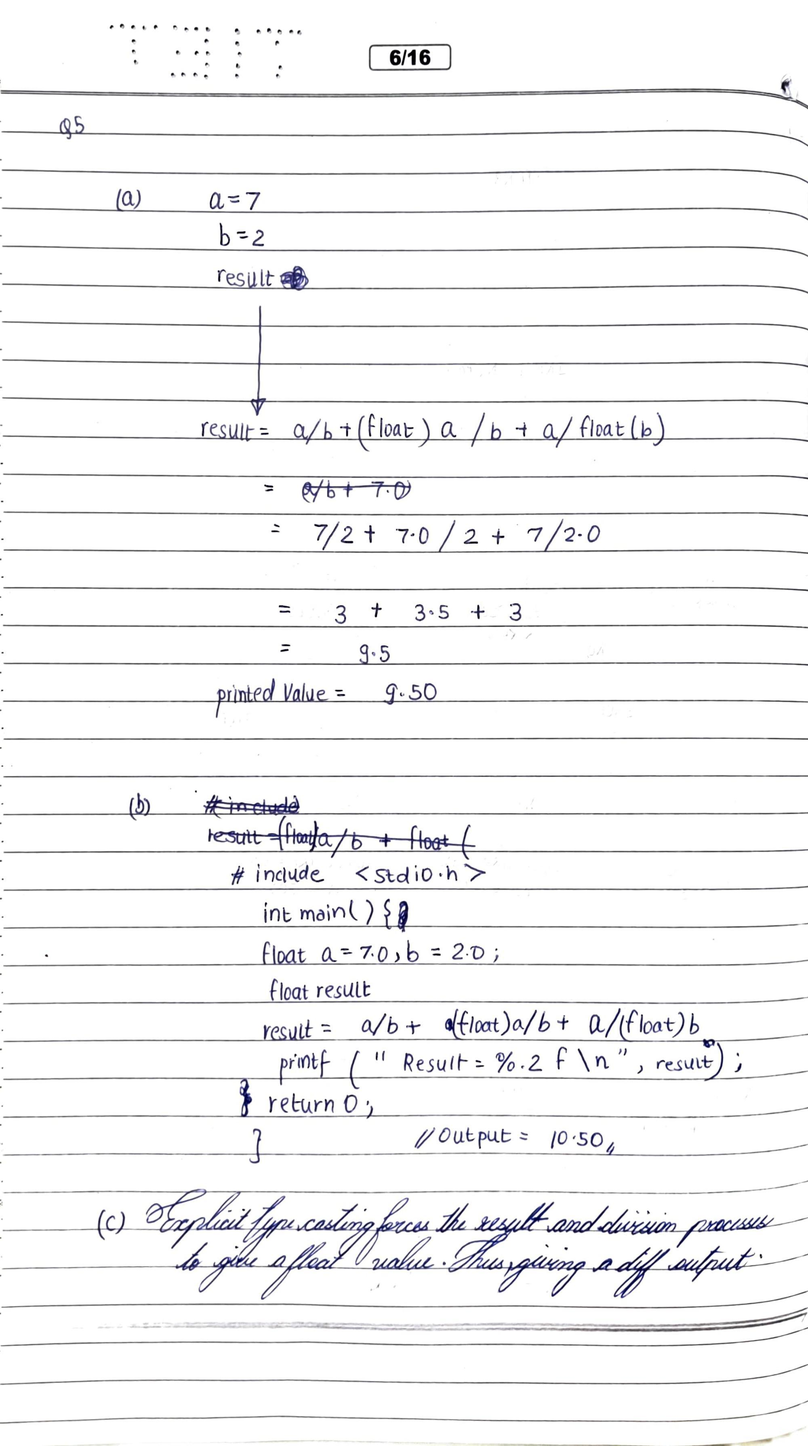cuttings: (205, 814, 482, 863), (300, 478, 414, 506), (200, 791, 303, 821), (278, 264, 311, 292), (237, 1077, 255, 1118), (395, 899, 411, 934), (702, 1038, 716, 1049), (444, 1017, 453, 1032)
